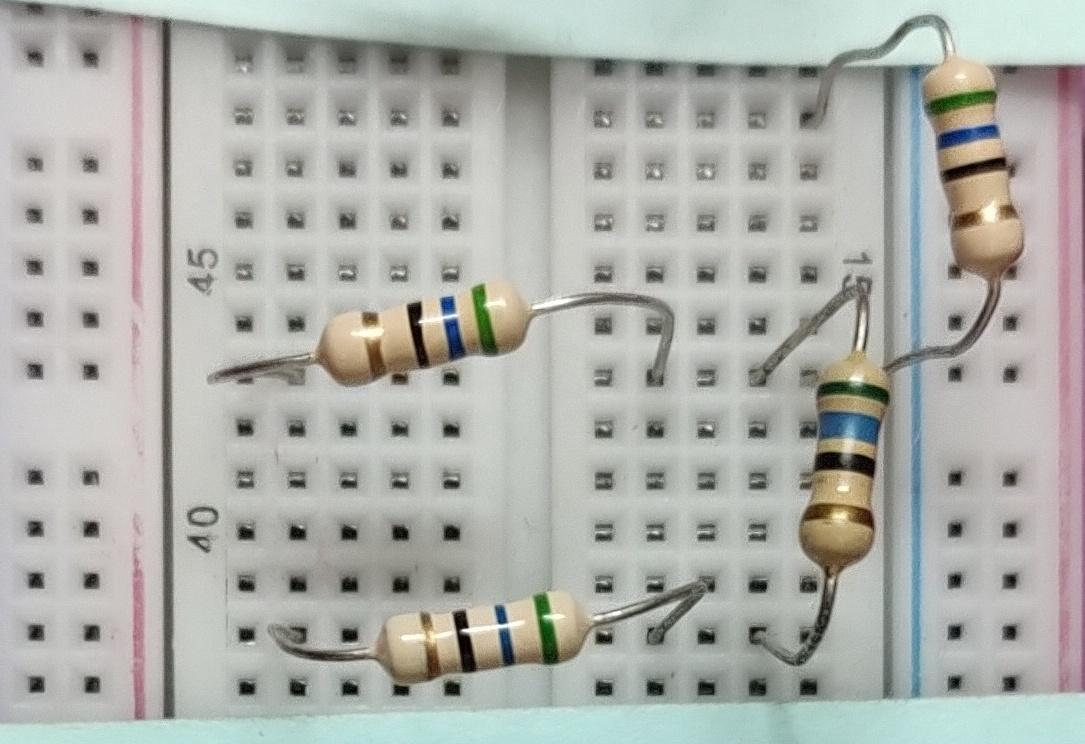resistor: (906, 48, 1037, 279), (315, 270, 530, 390), (792, 346, 889, 575), (370, 585, 603, 680)
